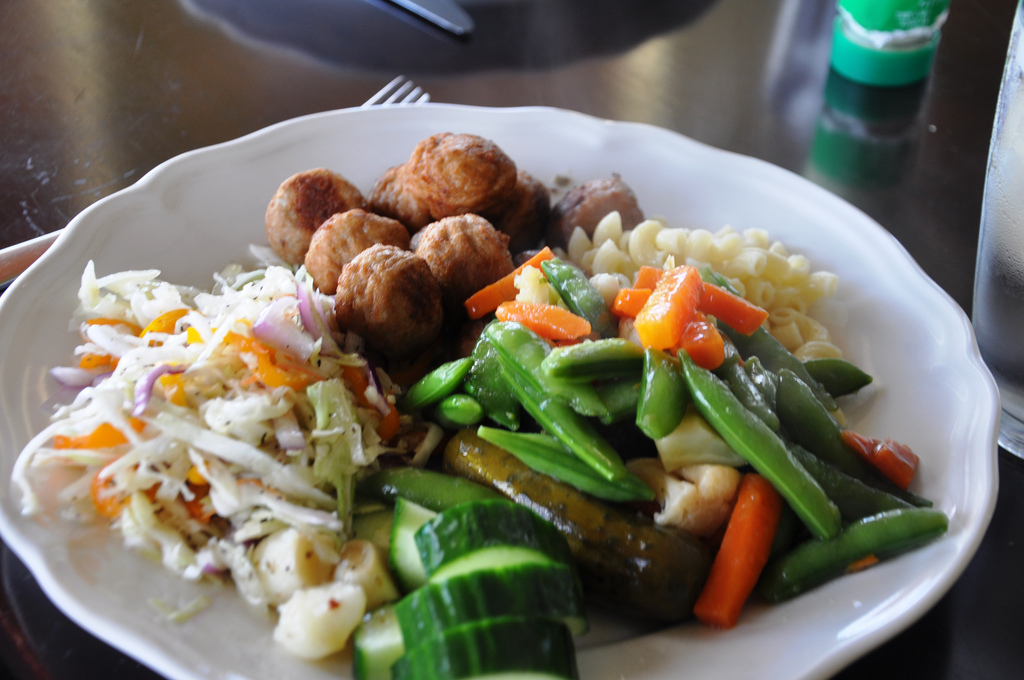meatballs: (252, 110, 535, 338)
